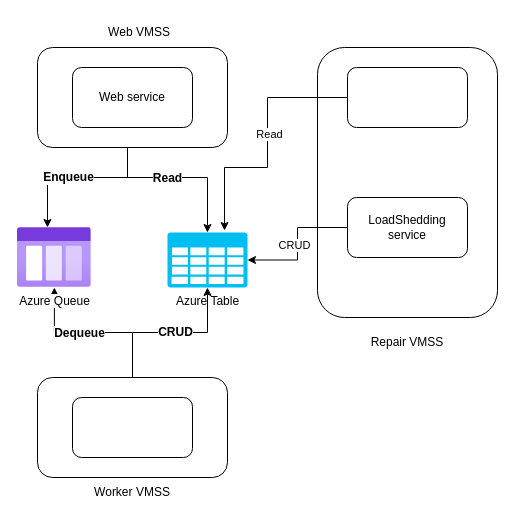
This 515x524 diagram has some shape labels left out. Each missing label, with the centre of its shape:
"Maintanence service" belongs at pixel 407 97.
"Worker service" belongs at pixel 132 427.
